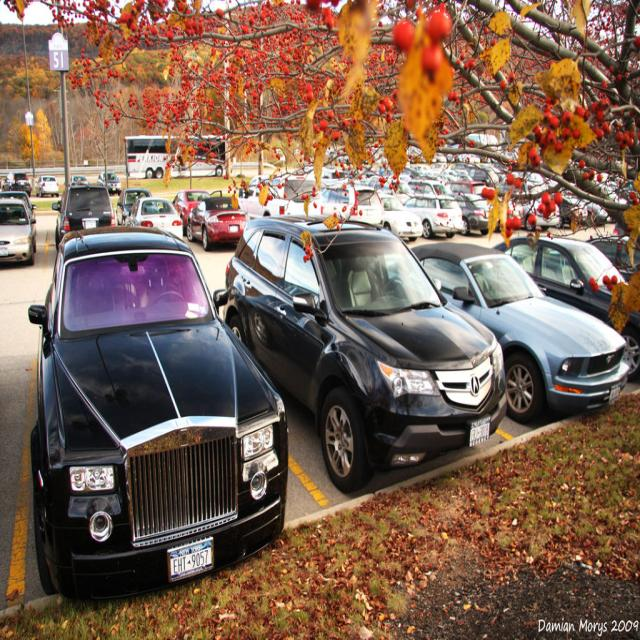car: (25, 225, 291, 597)
